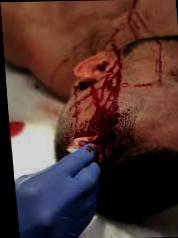Fire: (69, 46, 121, 148), (127, 0, 155, 40), (64, 136, 96, 152), (103, 28, 118, 49), (157, 41, 162, 83), (7, 123, 22, 137), (93, 144, 100, 162), (133, 83, 152, 87)
